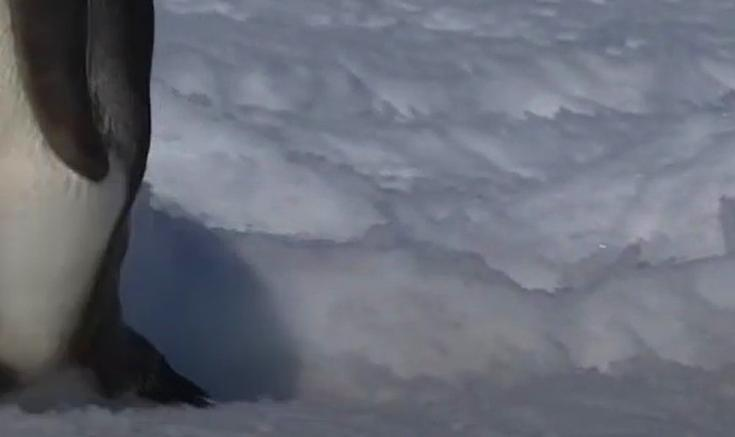Emperor Penguin: (0, 0, 217, 411)
